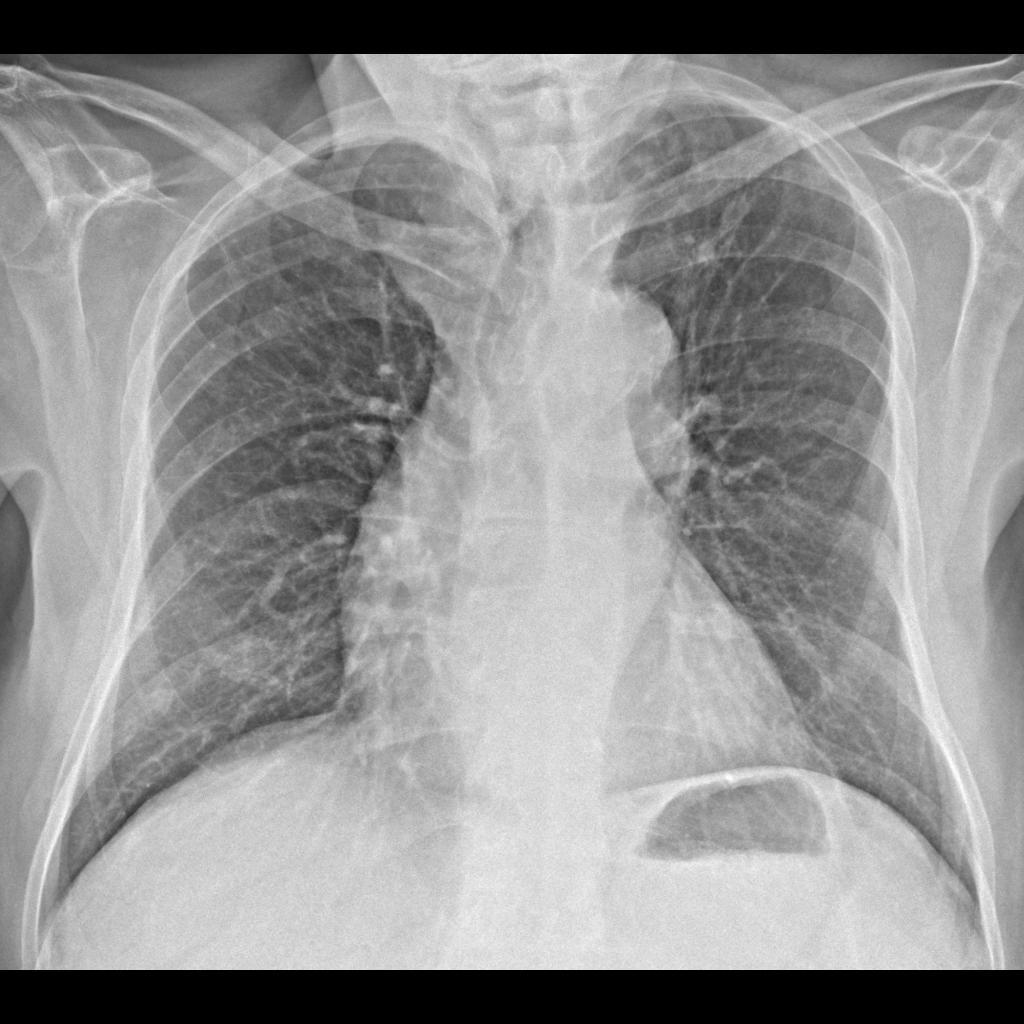Nodule: (137, 681, 186, 727)
